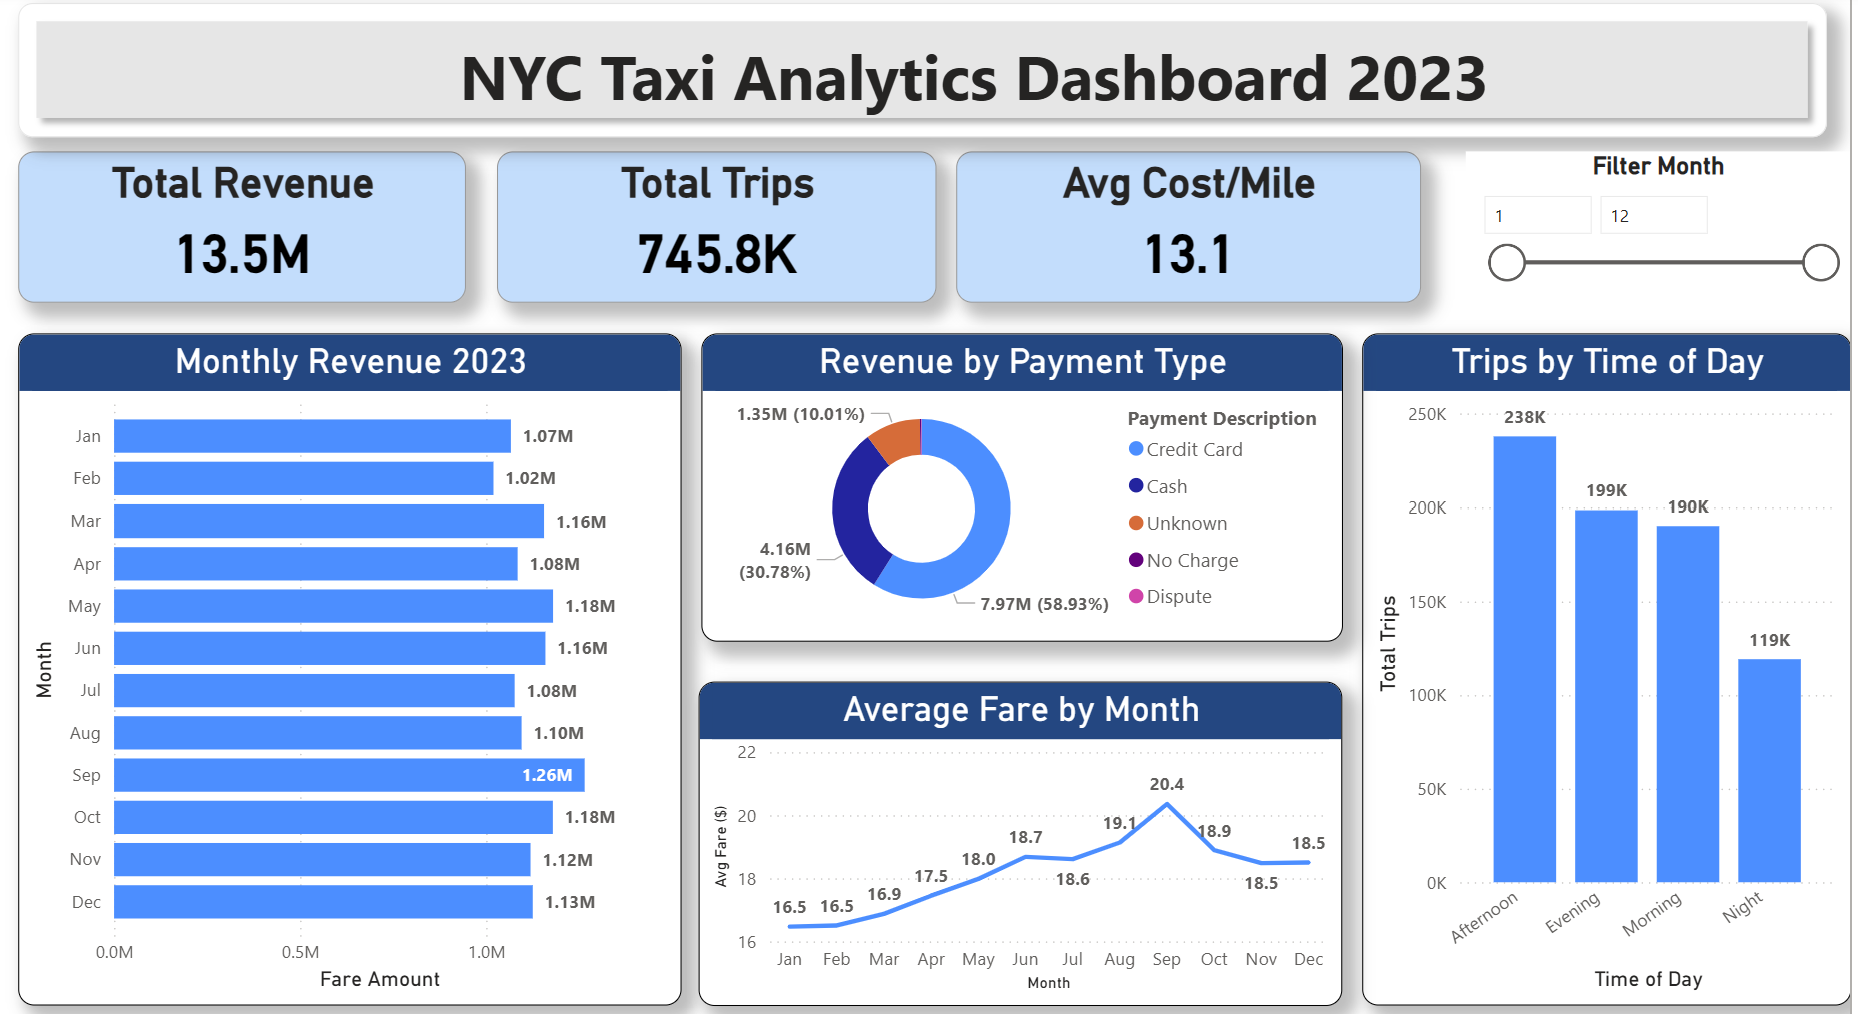

The dashboard page shown, as its layout file describes it:
{"tool":"powerbi","page":{"name":"Page 1","canvas":[1280,720],"ordinal":0},"visuals":[{"type":"card","title":"Total Trips","fields":{"Values":["CountNonNull(fact_deliveries.vendor_id)"]},"box":[347.7,112.2,302.9,104.2],"z":0},{"type":"card","title":"Avg Cost/Mile","fields":{"Values":["Avg(fact_deliveries.cost_per_mile)"]},"box":[664.1,112.2,320.3,104.2],"z":1000},{"type":"card","title":"Total Revenue","fields":{"Values":["Sum(fact_deliveries.fare_amount)"]},"box":[17.7,112.2,308.7,104.2],"z":2000},{"type":"clusteredBarChart","title":"Monthly Revenue 2023","fields":{"Y":["Sum(fact_deliveries.fare_amount)"],"Category":["fact_deliveries.month_name"]},"box":[16.9,237.1,457.2,462.3],"z":3000},{"type":"clusteredColumnChart","title":"Trips by Time of Day","fields":{"Category":["fact_deliveries.time_of_day"],"Y":["CountNonNull(fact_deliveries.vendor_id)"]},"box":[943.3,237.1,337,462.3],"z":4000},{"type":"donutChart","title":"Revenue by Payment Type","fields":{"Category":["fact_deliveries.payment_description"],"Y":["Sum(fact_deliveries.fare_amount)"]},"box":[487.7,237.1,442,211.7],"z":5000},{"type":"lineChart","title":"Average Fare by Month","fields":{"Category":["fact_deliveries.month_name"],"Y":["Avg(fact_deliveries.fare_amount)"]},"box":[486,475.9,443.7,223.5],"z":6000},{"type":"shape","box":[17.4,9.6,1246.5,92.6],"z":7000},{"type":"textbox","box":[247.3,25.4,858.6,77.9],"z":8000},{"type":"slicer","title":"Filter Month","fields":{"Values":["fact_deliveries.trip_month"]},"box":[1014.4,111.8,265.9,105],"z":9000}]}

Visuals, with their boxes in screenshot pixels (x1, y1, x2, y2):
"Total Trips" card: Rect(497, 147, 934, 298)
"Avg Cost/Mile" card: Rect(953, 147, 1416, 298)
"Total Revenue" card: Rect(21, 147, 466, 298)
"Monthly Revenue 2023" clusteredBarChart: Rect(20, 328, 679, 995)
"Trips by Time of Day" clusteredColumnChart: Rect(1356, 328, 1842, 995)
"Revenue by Payment Type" donutChart: Rect(699, 328, 1337, 633)
"Average Fare by Month" lineChart: Rect(696, 672, 1337, 995)
shape: Rect(20, 0, 1819, 133)
textbox: Rect(352, 22, 1591, 135)
"Filter Month" slicer: Rect(1459, 147, 1842, 298)
